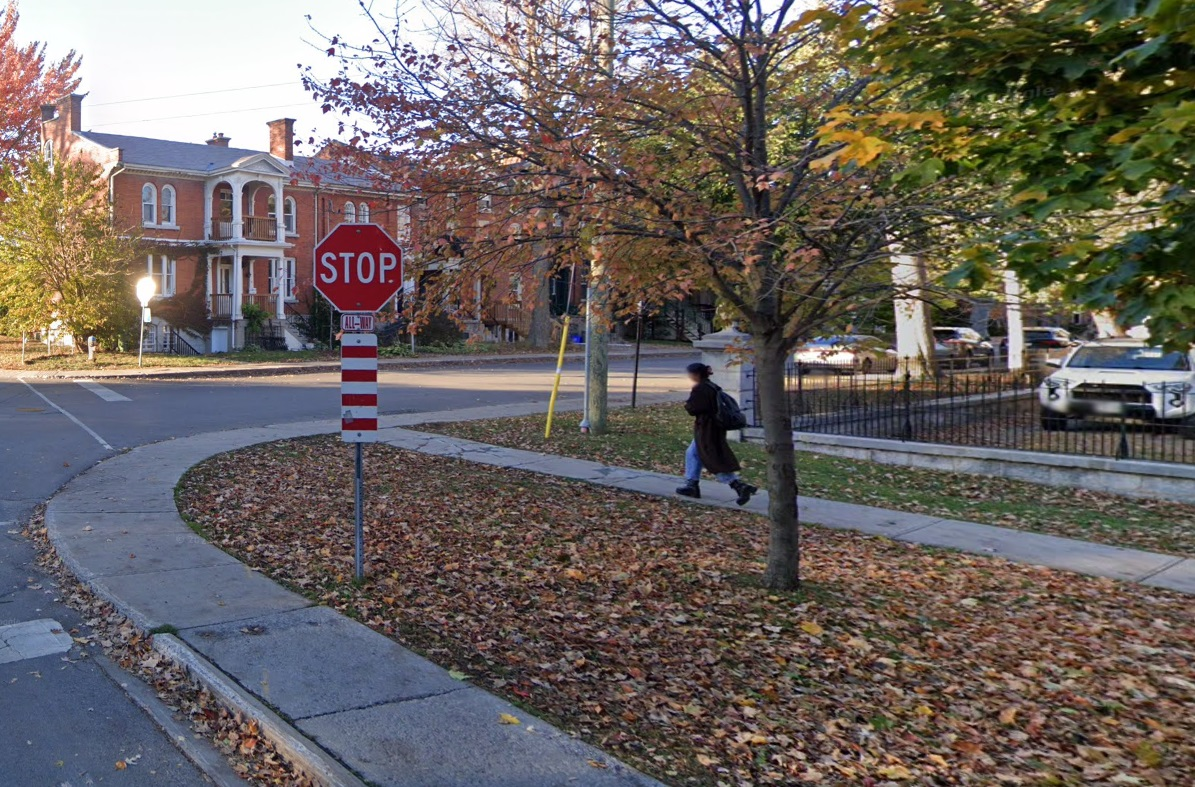sign_stop: (312, 222, 403, 311)
